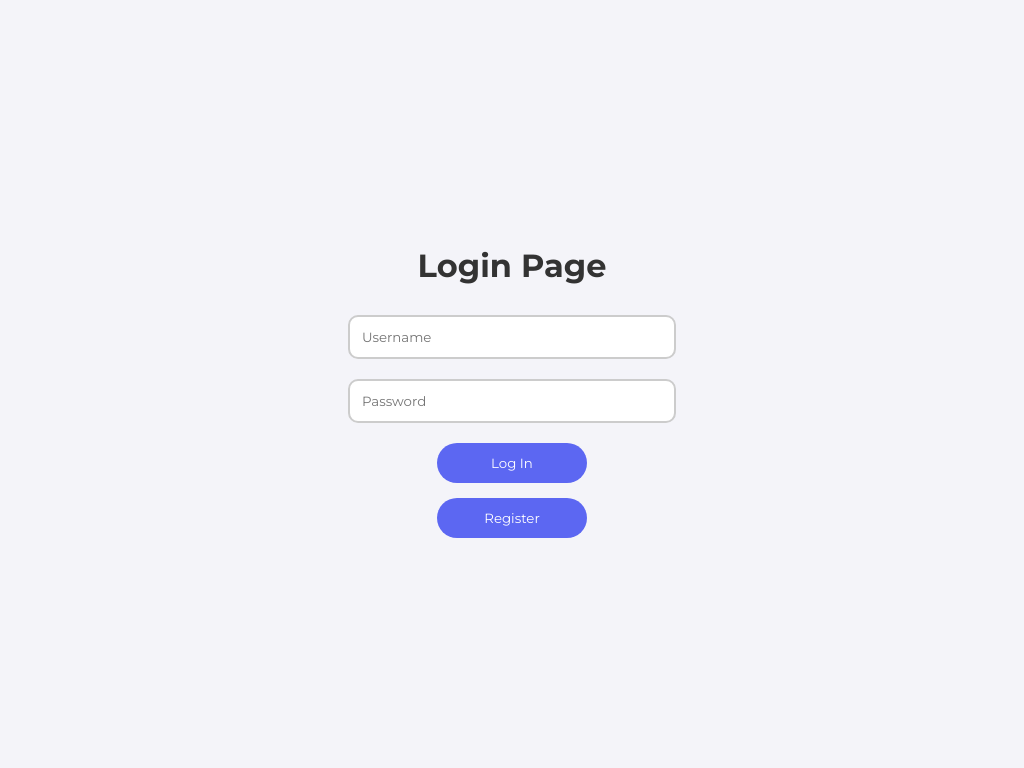
Test: profile page tests › closes statistics modal
The image size is (1024, 768).
Type "validuser" into the field with placeholder "Username" at point(512, 337), box [348, 315, 676, 359]
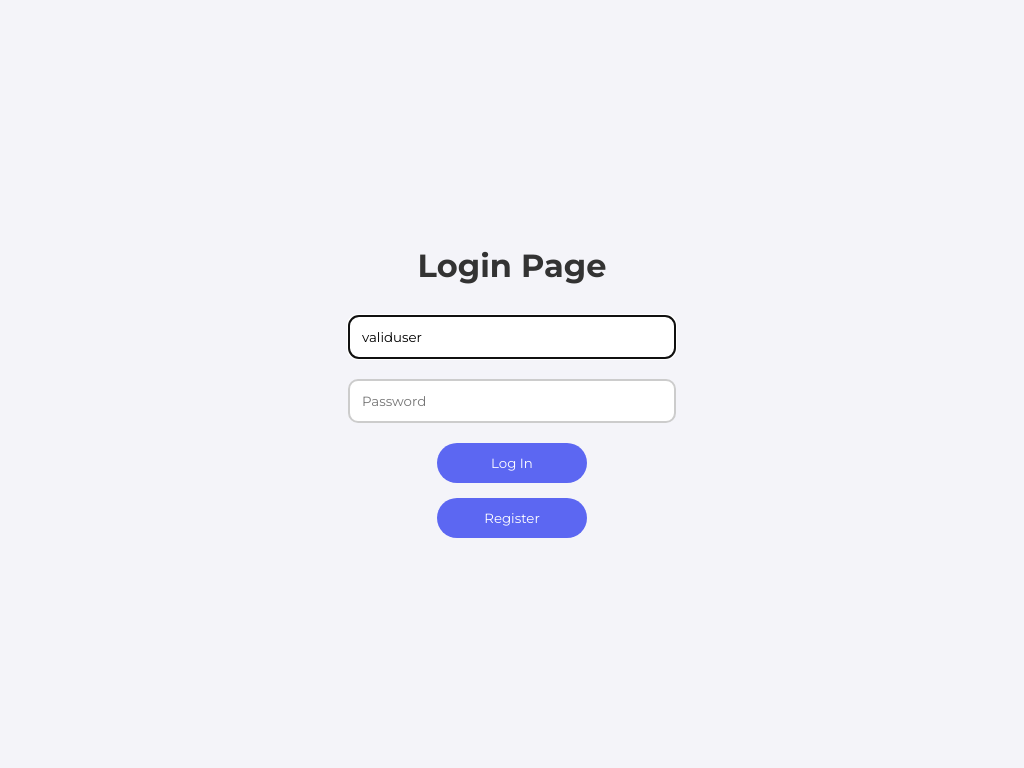
Type "validpass" into the password field with placeholder "Password" at point(512, 401), box [348, 379, 676, 423]
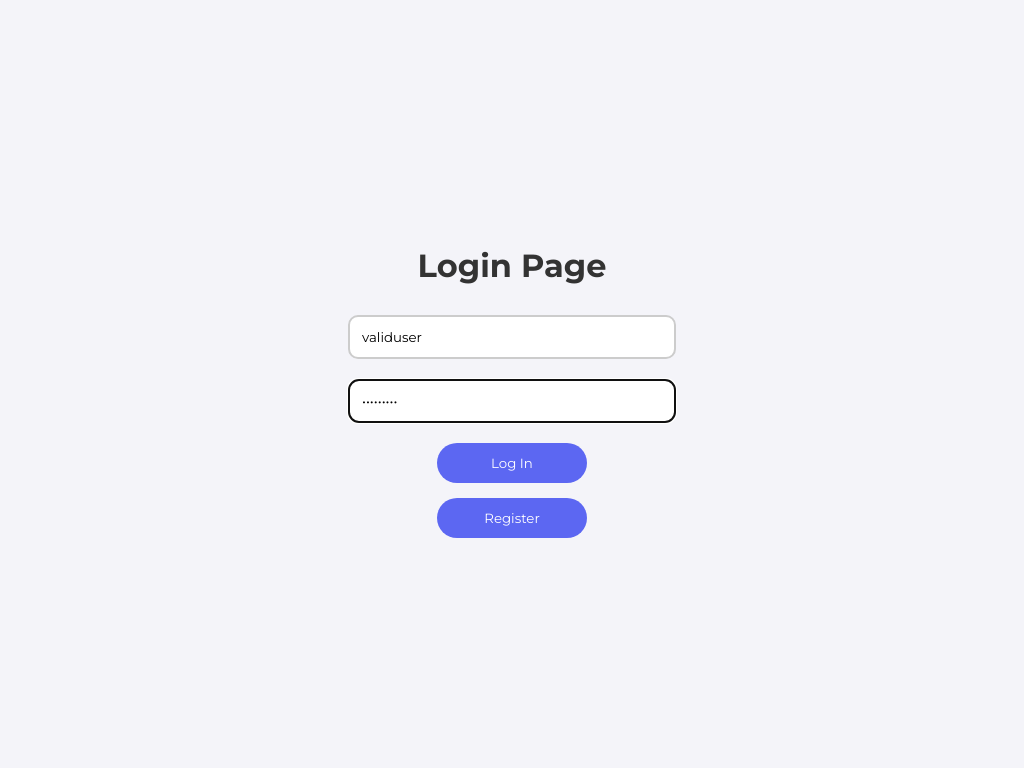
Click the button "Log In" at point(512, 463), box [437, 443, 587, 483]
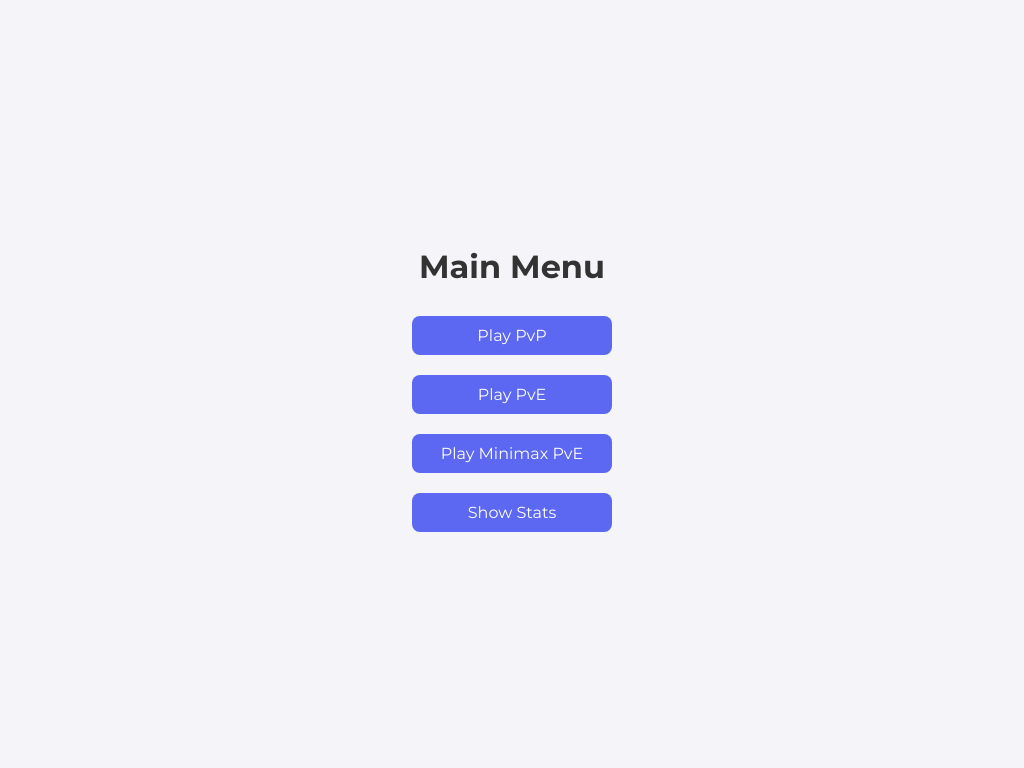
Click the button "Show Stats" at point(512, 513), box [412, 493, 612, 532]
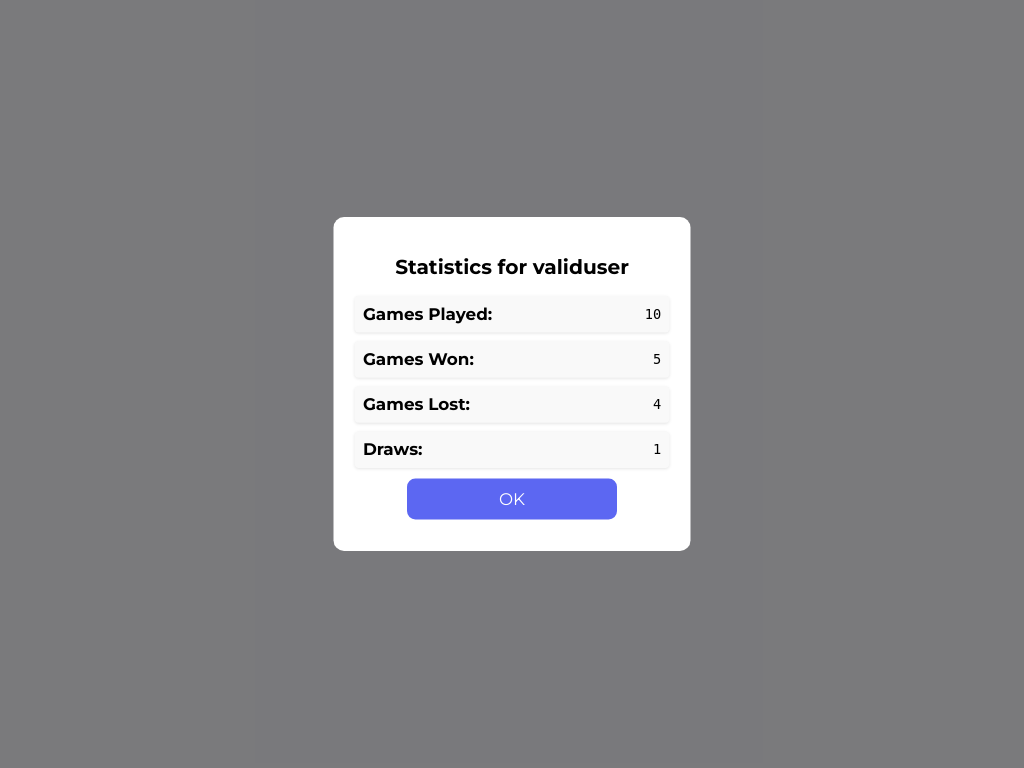
Check: the element with class "modal" is shown, box [334, 217, 691, 552]
Click the button "OK" at point(512, 500), box [407, 479, 617, 520]
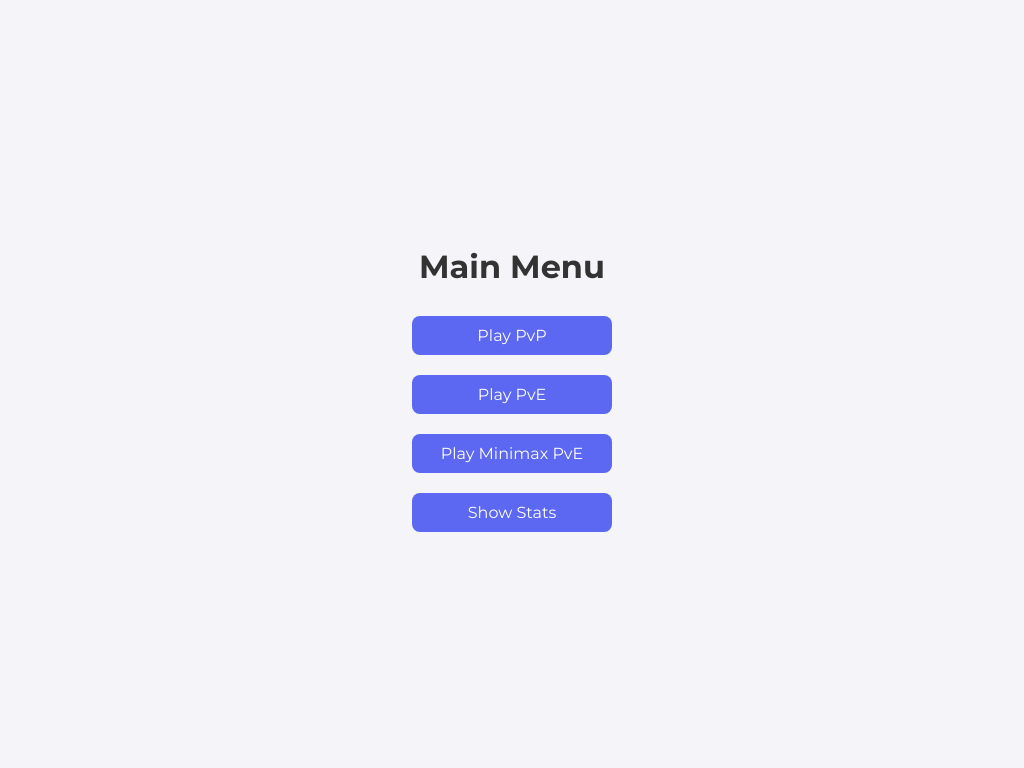
Check: the element with class "modal" is gone
